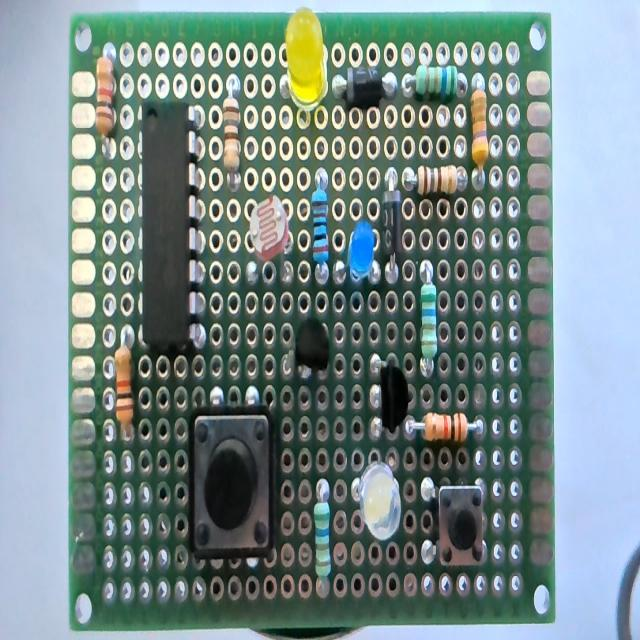IC: (136, 97, 207, 359)
cds: (242, 191, 294, 293)
diode: (381, 163, 411, 293), (331, 50, 393, 106)
led: (278, 8, 336, 122), (353, 456, 407, 563), (339, 211, 379, 297)
resistor: (107, 314, 137, 457), (401, 52, 467, 108), (462, 73, 494, 187), (309, 160, 337, 290), (412, 403, 490, 447), (90, 43, 118, 161), (402, 157, 464, 205), (416, 256, 440, 380), (310, 480, 336, 594), (221, 75, 243, 190)
switch: (182, 404, 276, 562), (428, 476, 490, 580)
transistor: (286, 312, 338, 382), (376, 356, 412, 441)
